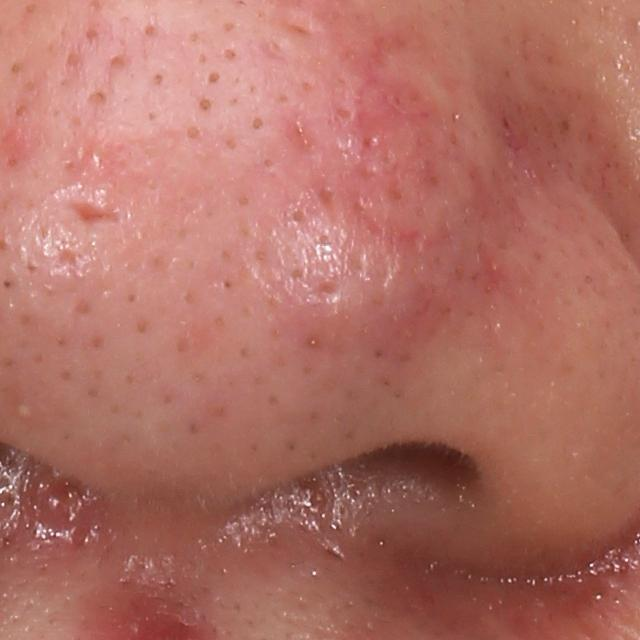comedo: (81, 87, 111, 114), (191, 91, 218, 117), (217, 42, 239, 67), (200, 65, 221, 89), (288, 205, 308, 230), (247, 113, 267, 135), (186, 121, 202, 141)
